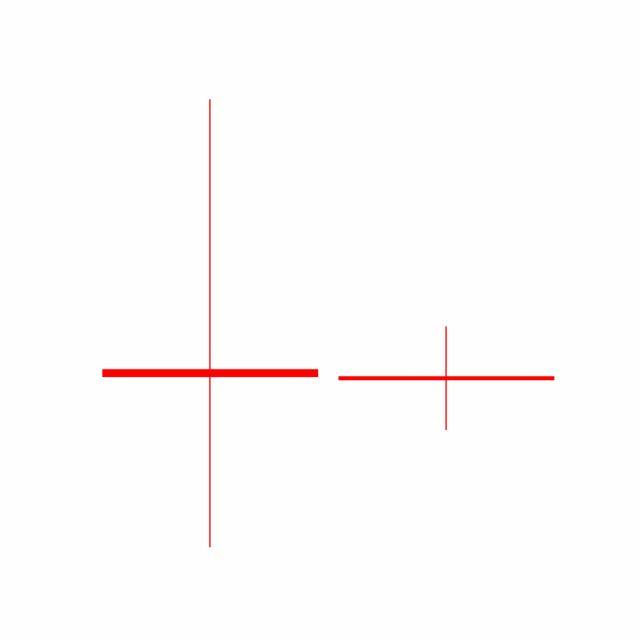Spinning Top: (328, 325, 566, 432)
